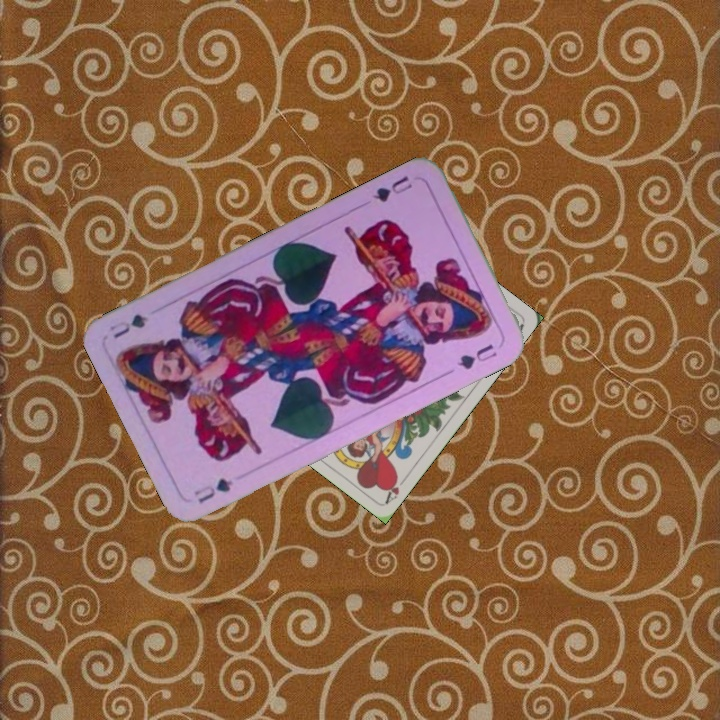GU: (368, 171, 415, 205), (189, 474, 236, 506)
HA: (382, 470, 412, 505)
